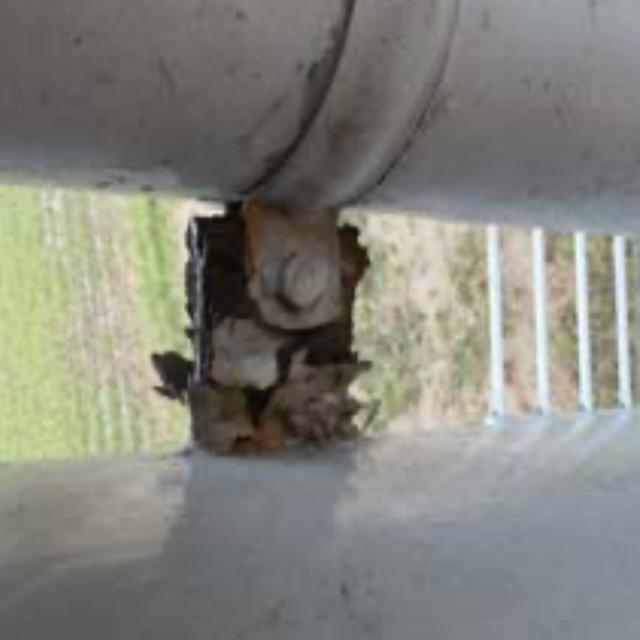corrosion: (130, 170, 403, 469)
